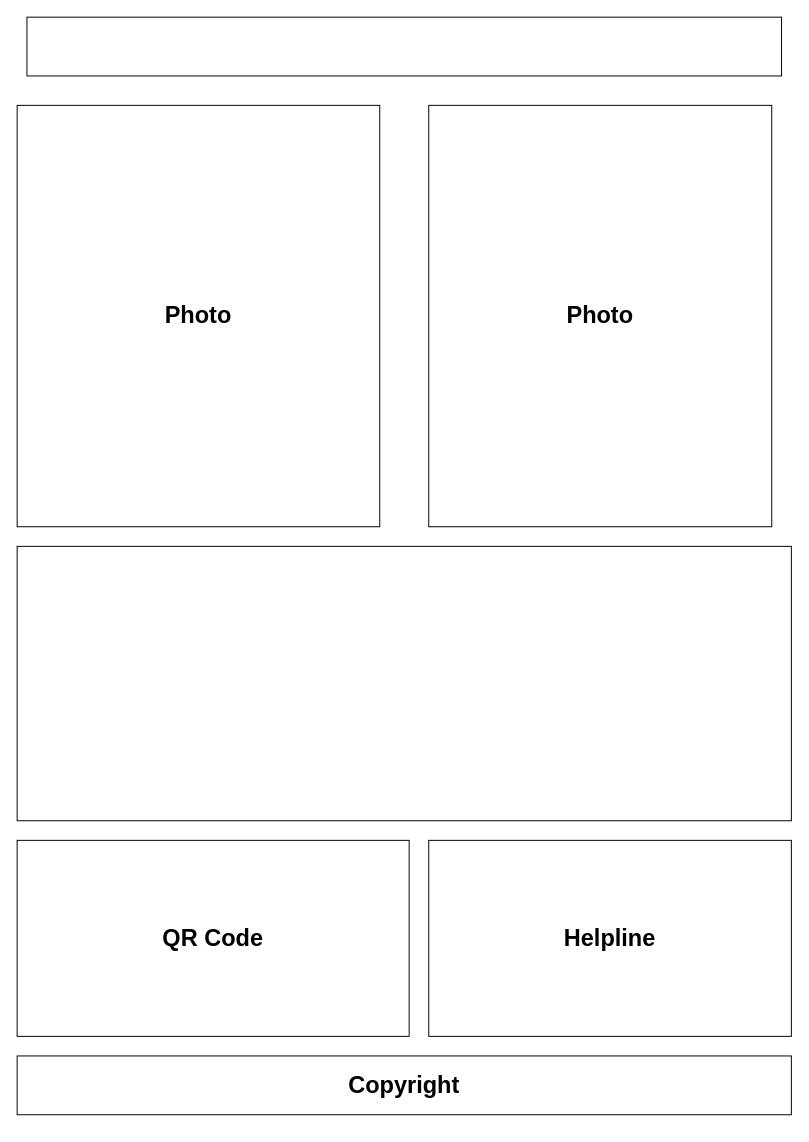
Image size: 809x1142. Some labels were removed from this diagram. The box of each missing label's shape, as (x1, y1, x2, y2) in pixels:
Heading: (26, 16, 782, 76)
Text: (16, 545, 791, 821)
